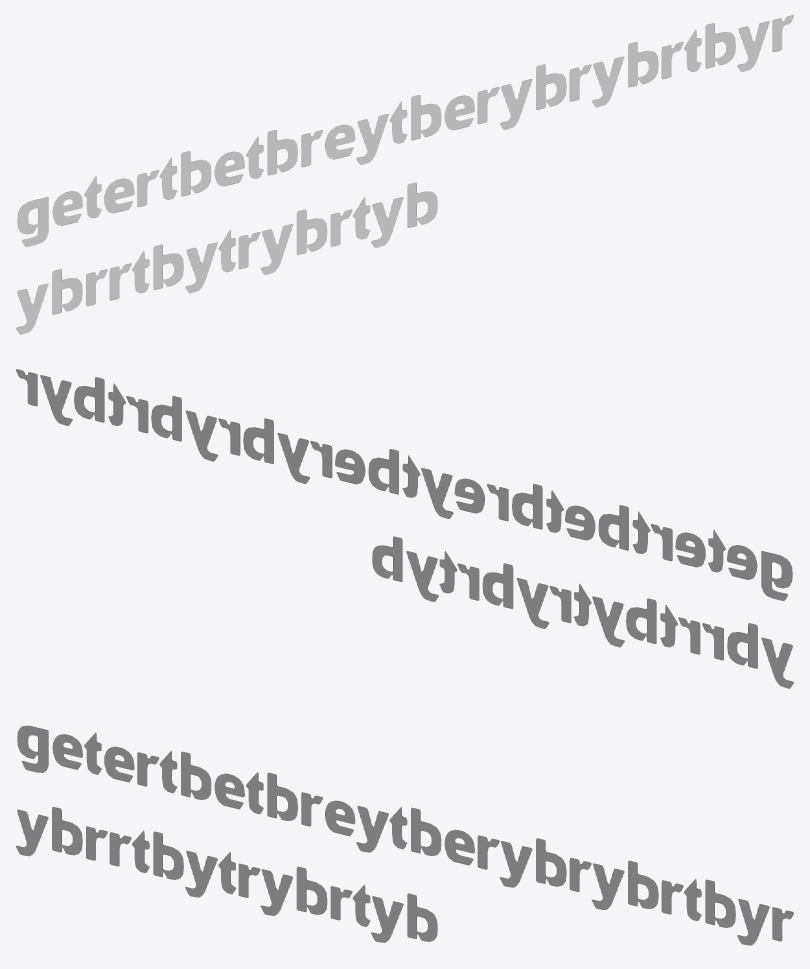
File: Mesh_9_d0689896__Watford_DB-32_0296d893_9c9708.obj
3 views of the same model, one above another, from view 1: azimuth 30°, elevation 25°; view 2: azimuth 150°, elevation 25°; view 3: azimuth 330°, elevation 25° (orthographic).
Bounding box in the file's own units: 212 × 38 × 0.
Materials: 1 (1 with a texture image).
